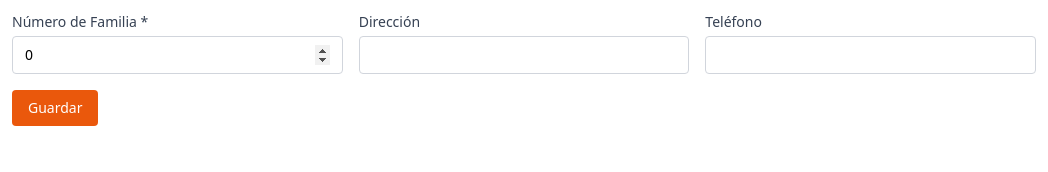
Test: FamiliaForm › shows validation error for numero=0 on submit
Click the button "Guardar" at (55, 108), box [12, 90, 98, 126]
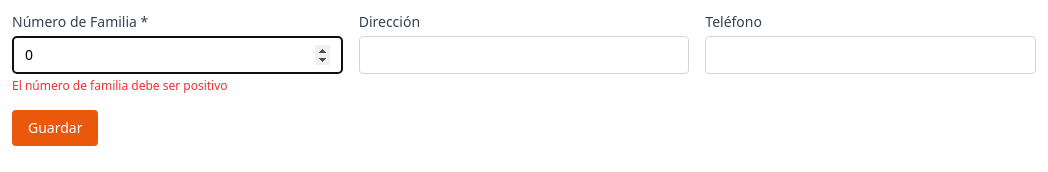
Expected: the text "El número de familia debe ser positivo" is shown, [12, 77, 228, 94]
